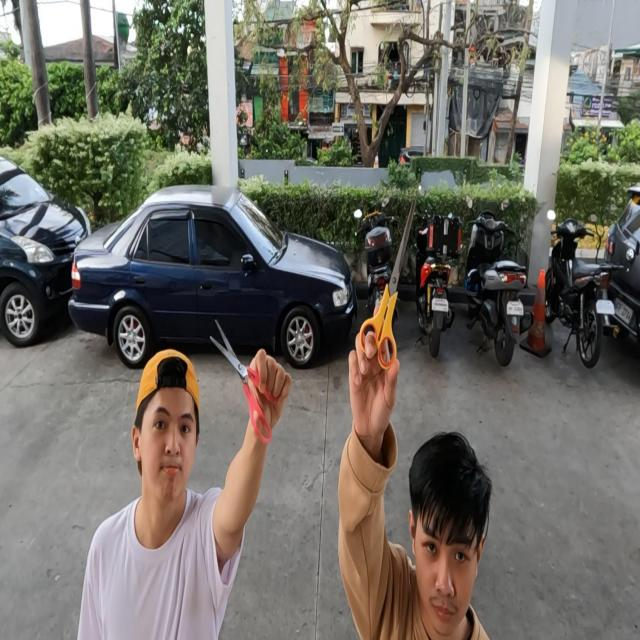scissor: (360, 201, 416, 370), (210, 320, 278, 443)
